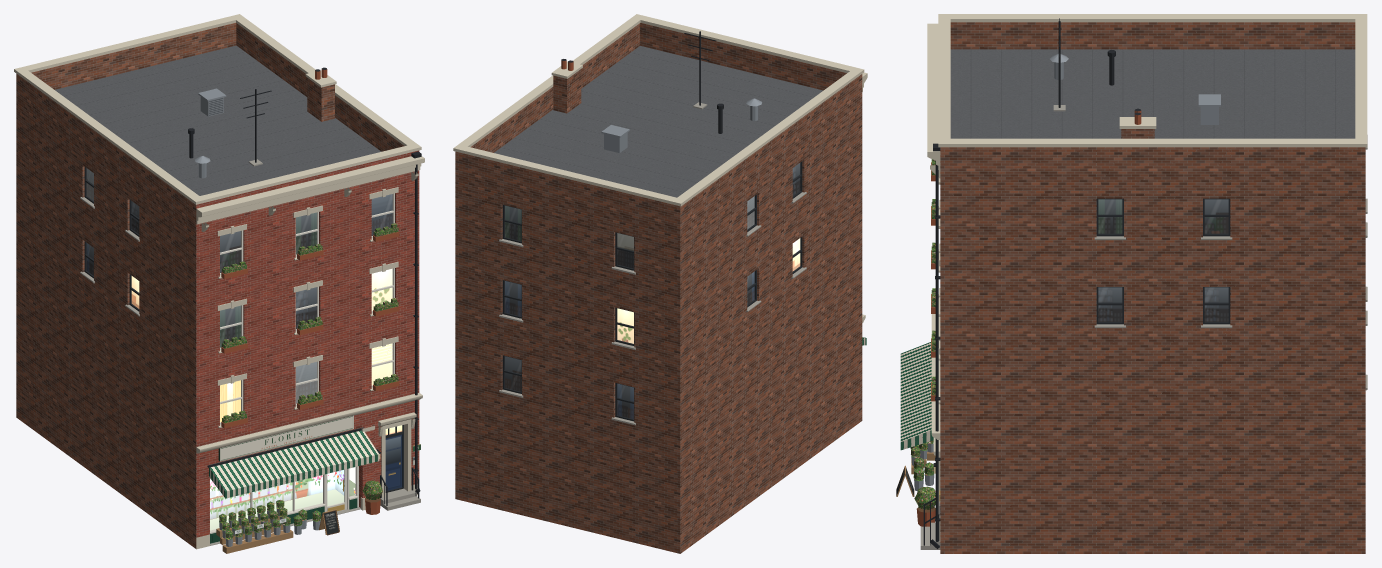
File: Florist.fbx
The picture shows the model from 3 angles, left to right: view 1: azimuth 30°, elevation 25°; view 2: azimuth 150°, elevation 25°; view 3: azimuth 270°, elevation 25°; orthographic projection. The views are drawn at different scales.
Parts seen in each view (by area): view 1: Florist_Mesh; view 2: Florist_Mesh; view 3: Florist_Mesh.
Part boxes in pixels (x1=…): Florist_Mesh: x1=14, y1=14, x2=424, y2=553; Florist_Mesh: x1=453, y1=14, x2=867, y2=553; Florist_Mesh: x1=896, y1=14, x2=1367, y2=553.
Size of the model in its own units: 10.14 by 16.98 by 15.51.
